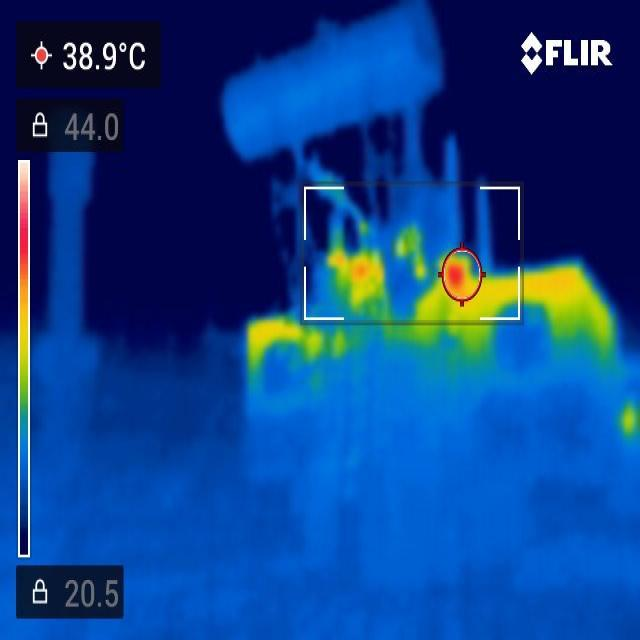Loose Joint -Faulty: (326, 222, 494, 318)
